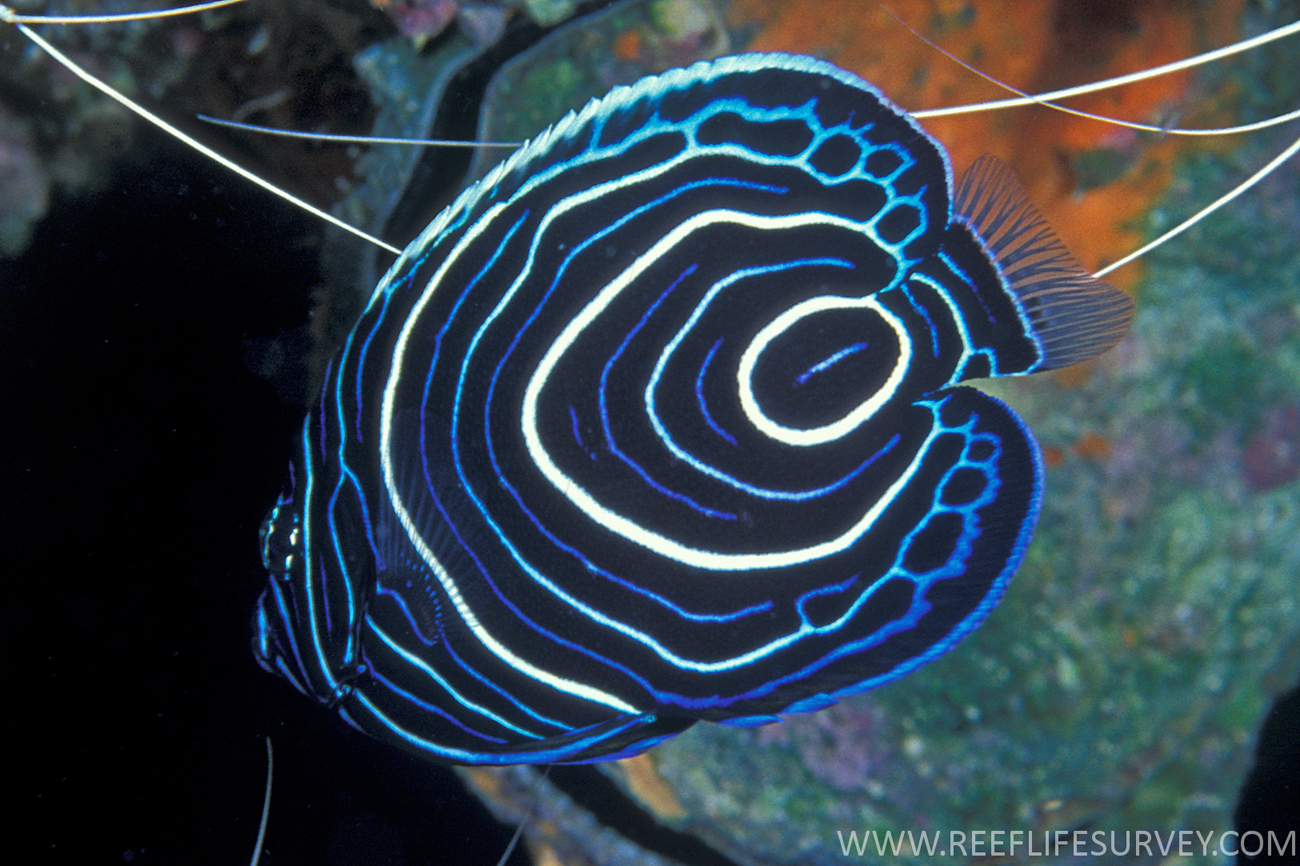Pomacanthus_imperator: (218, 58, 1106, 813)
